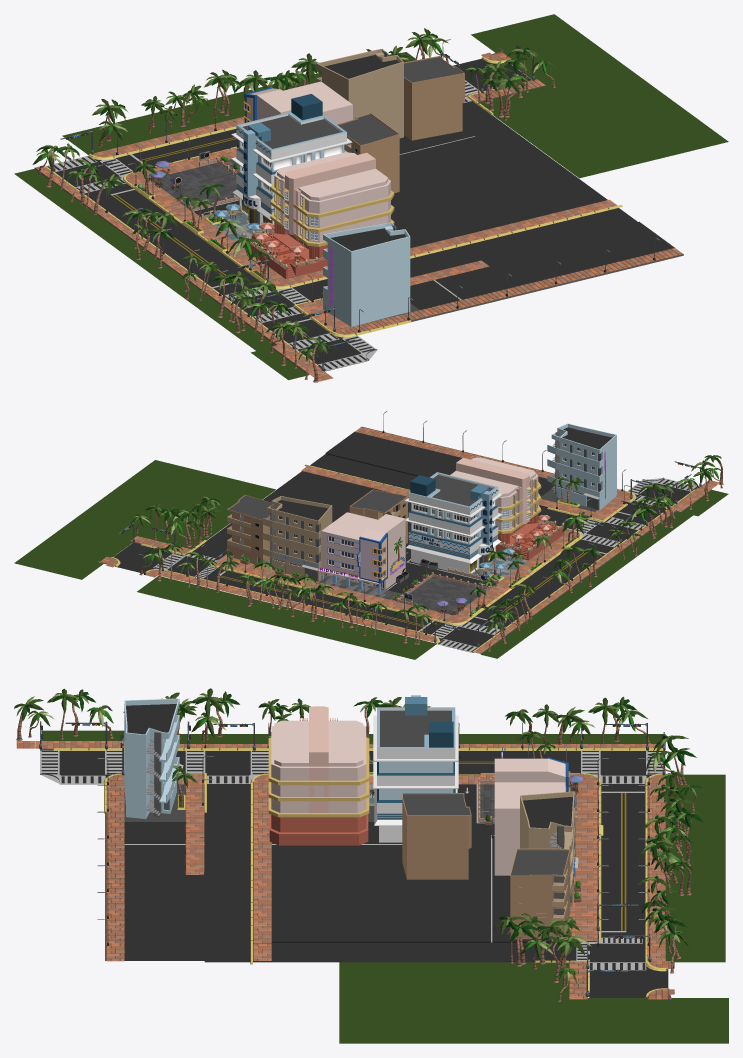
The model's file is env_arcade.glb.
The picture shows the model from 3 angles, top to bottom: view 1: azimuth 30°, elevation 25°; view 2: azimuth 150°, elevation 25°; view 3: azimuth 270°, elevation 25°; orthographic projection. The views are drawn at different scales.
Parts seen in each view (by area): view 1: Plane.008; view 2: Plane.008; view 3: Plane.008.
Boxes of the visible parts, x1,y1,x2,y2 form: Plane.008: (14, 14, 728, 382); Plane.008: (14, 411, 728, 659); Plane.008: (14, 688, 728, 1043).
Bounding box in the file's own units: 125 × 21.14 × 121.
7 materials, 5 textured.
